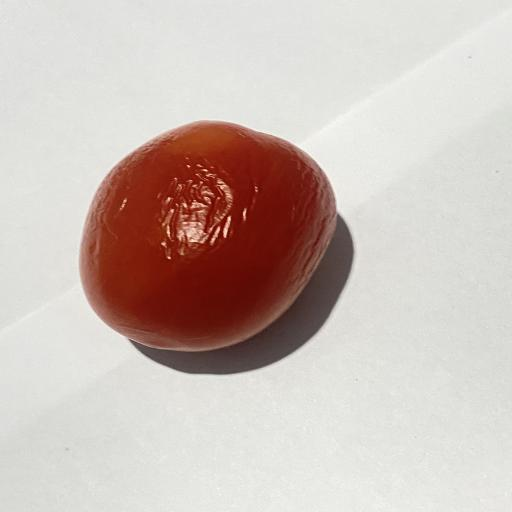spoiled: (80, 121, 336, 351)
